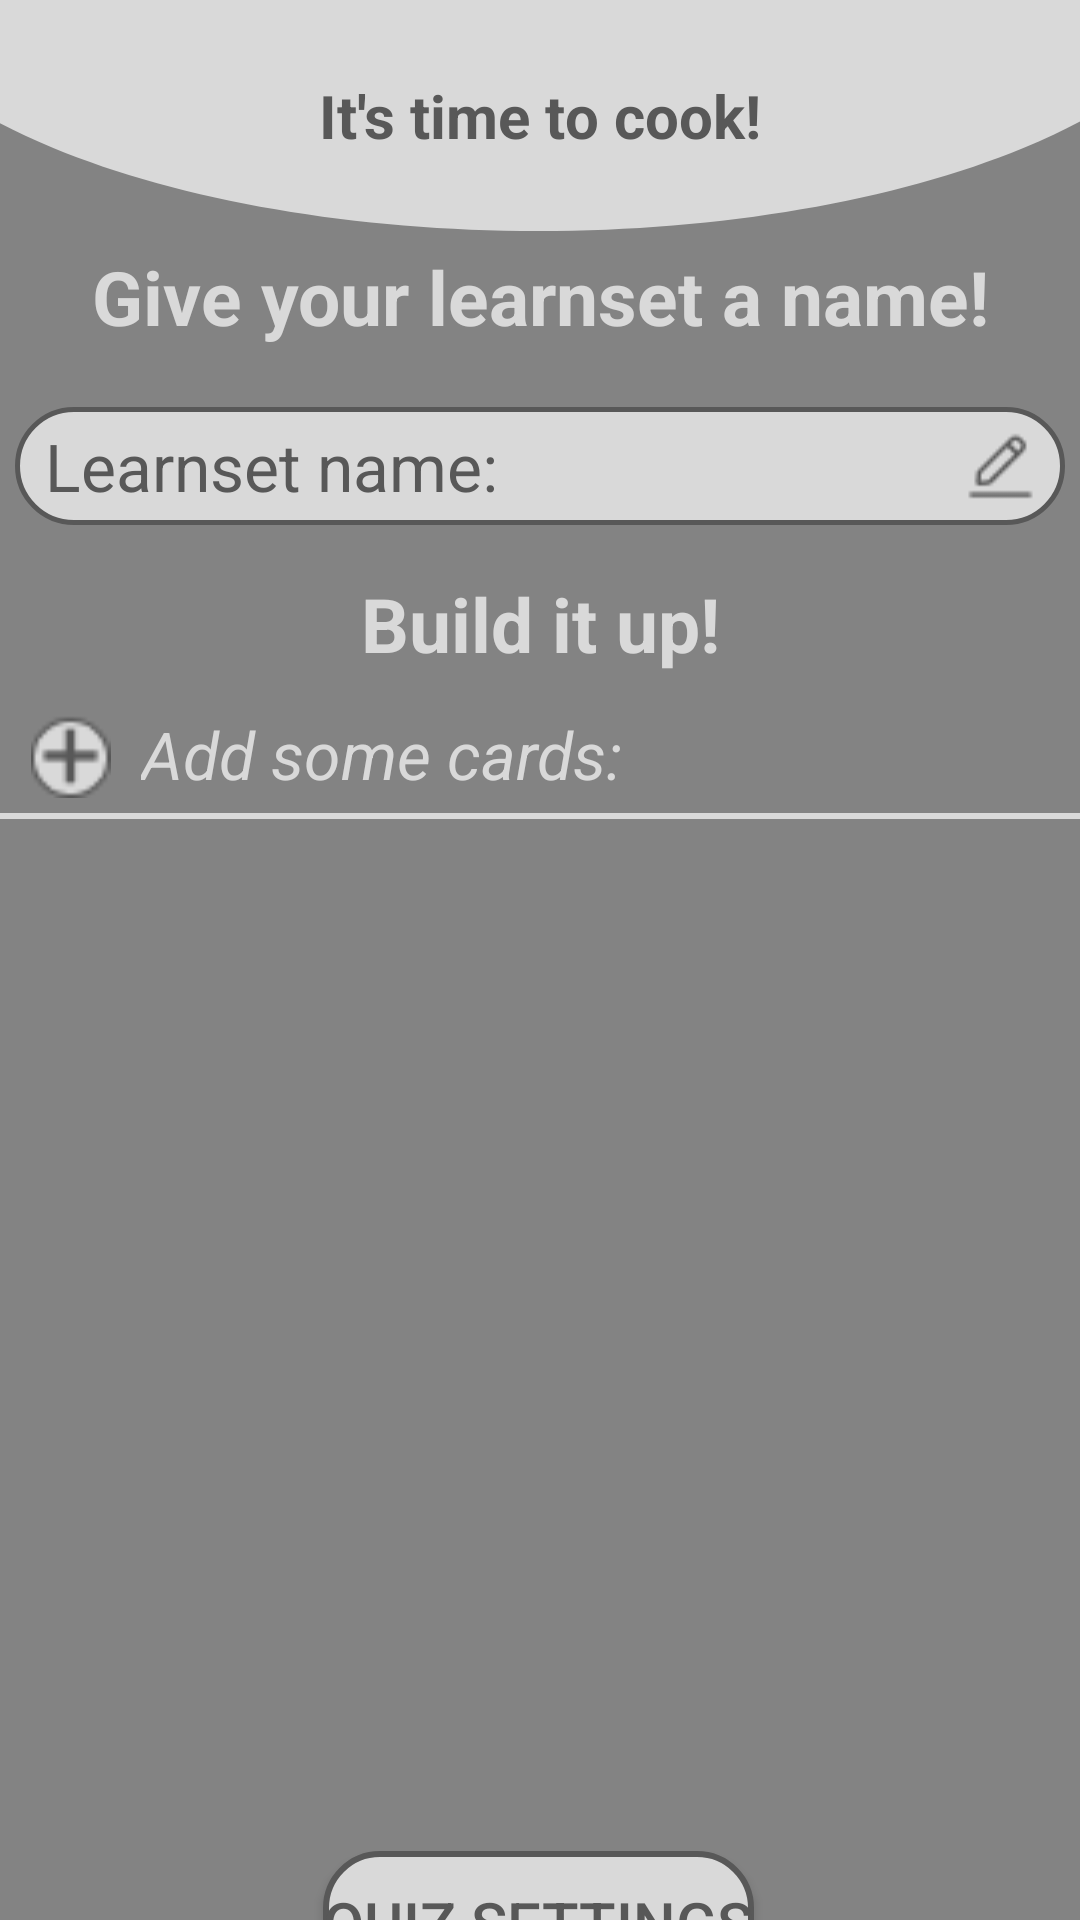

Icons on this 1080px x 1920px Android screen, each with its box as region(x1, y1, x2, y2):
add learncard: region(31, 718, 111, 798)
edit: region(969, 434, 1032, 498)
